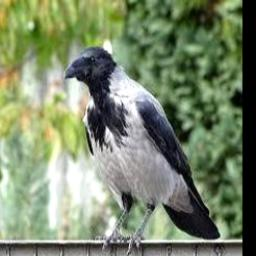Crow: (65, 46, 221, 256)
